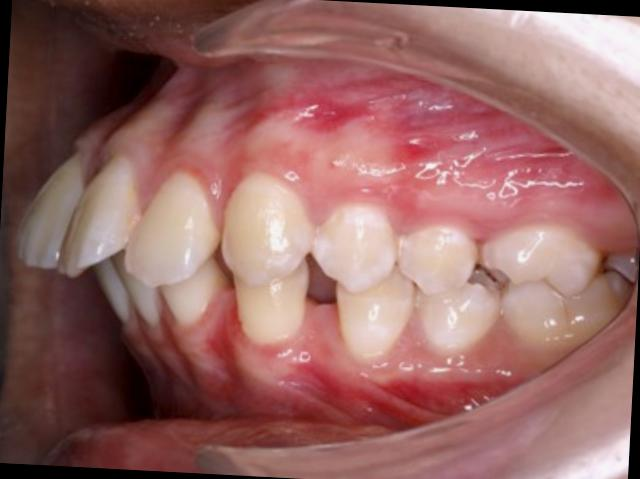canine class II 1/2: (208, 161, 417, 366)
molar class II 3/4: (473, 199, 629, 373)
